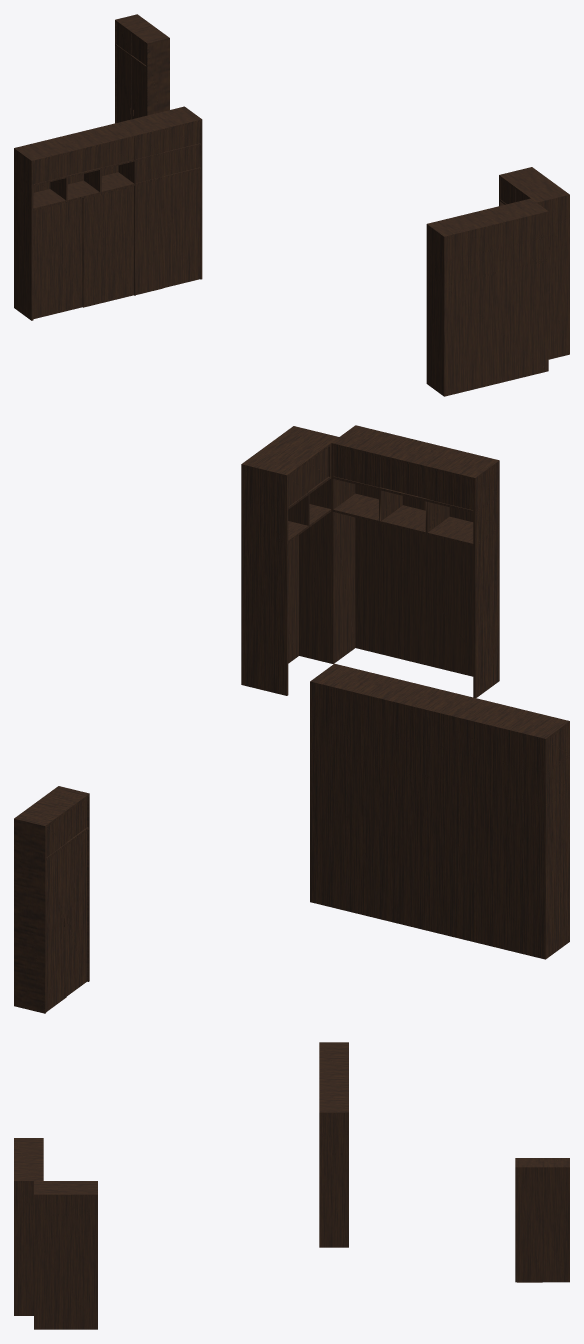
File: SM_closet001.fbx
3 views of the same model, one above another, from view 1: azimuth 30°, elevation 25°; view 2: azimuth 150°, elevation 25°; view 3: azimuth 270°, elevation 25° (orthographic). The views are drawn at different scales.
Visible parts, largest first — view 1: SM_closet001; view 2: SM_closet001; view 3: SM_closet001.
Part boxes in pixels (x1=…): SM_closet001: x1=14, y1=14, x2=569, y2=396; SM_closet001: x1=14, y1=425, x2=569, y2=1013; SM_closet001: x1=14, y1=1042, x2=569, y2=1329.
Size of the model in its own units: 7250 by 3000 by 11199.
Materials: 1 (1 with a texture image).
